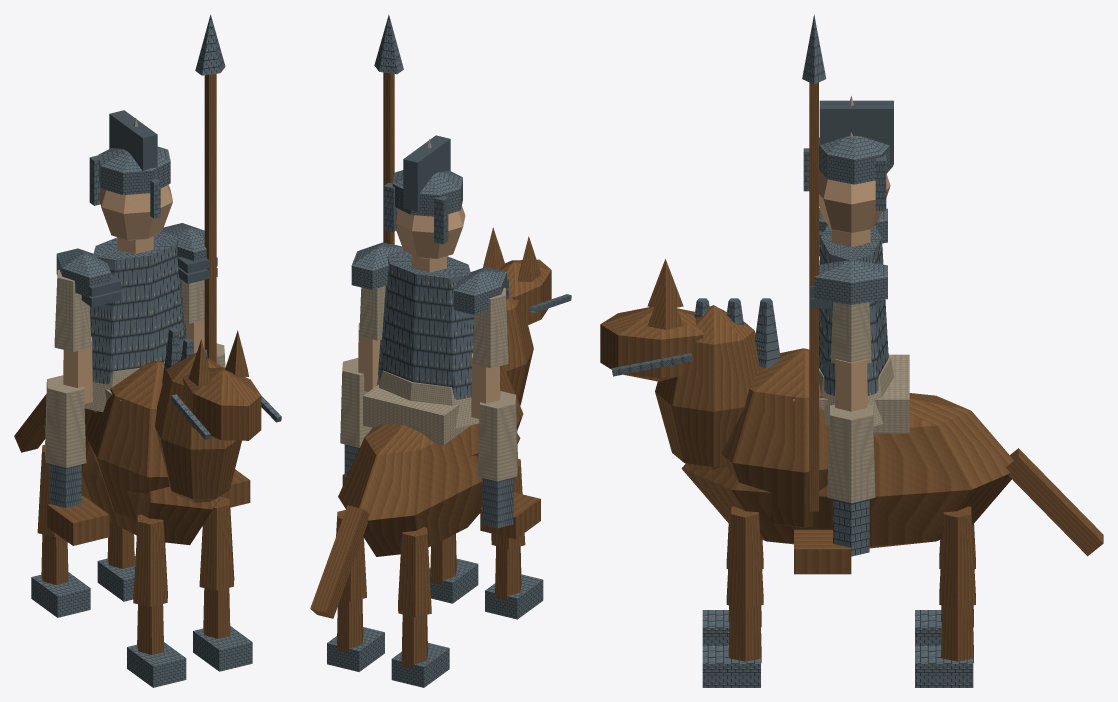
The model's file is unit-CAVALRY-lod1.glb.
The picture shows the model from 3 angles, left to right: view 1: azimuth 30°, elevation 25°; view 2: azimuth 150°, elevation 25°; view 3: azimuth 270°, elevation 25°; orthographic projection. The views are drawn at different scales.
Bounding box in the file's own units: 0.218 × 0.705 × 0.4738.
1 material, 1 textured.
